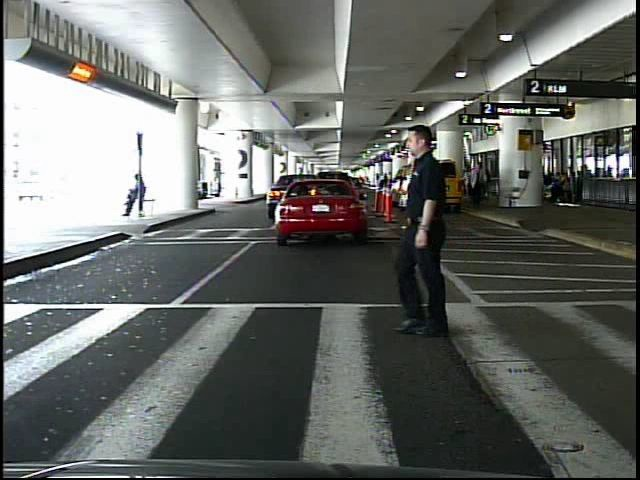person: (385, 117, 480, 337), (473, 163, 489, 207)
